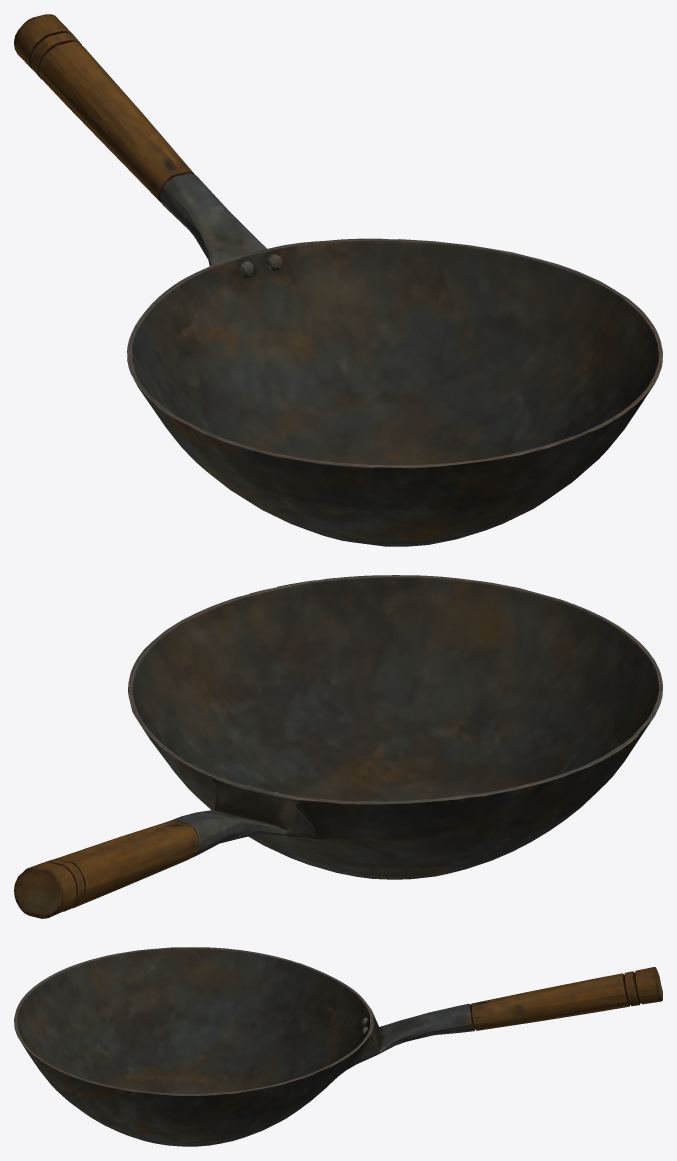
File: Wok.fbx
The picture shows the model from 3 angles, top to bottom: view 1: azimuth 30°, elevation 25°; view 2: azimuth 150°, elevation 25°; view 3: azimuth 270°, elevation 25°; orthographic projection. The views are drawn at different scales.
Visible parts, largest first — view 1: output_unwrapped; view 2: output_unwrapped; view 3: output_unwrapped.
Boxes of the visible parts, x1,y1,x2,y2 form: output_unwrapped: [14, 14, 662, 546]; output_unwrapped: [14, 575, 662, 918]; output_unwrapped: [14, 947, 662, 1146].
Size of the model in its own units: 103 by 52.11 by 190.
1 material, 1 textured.
